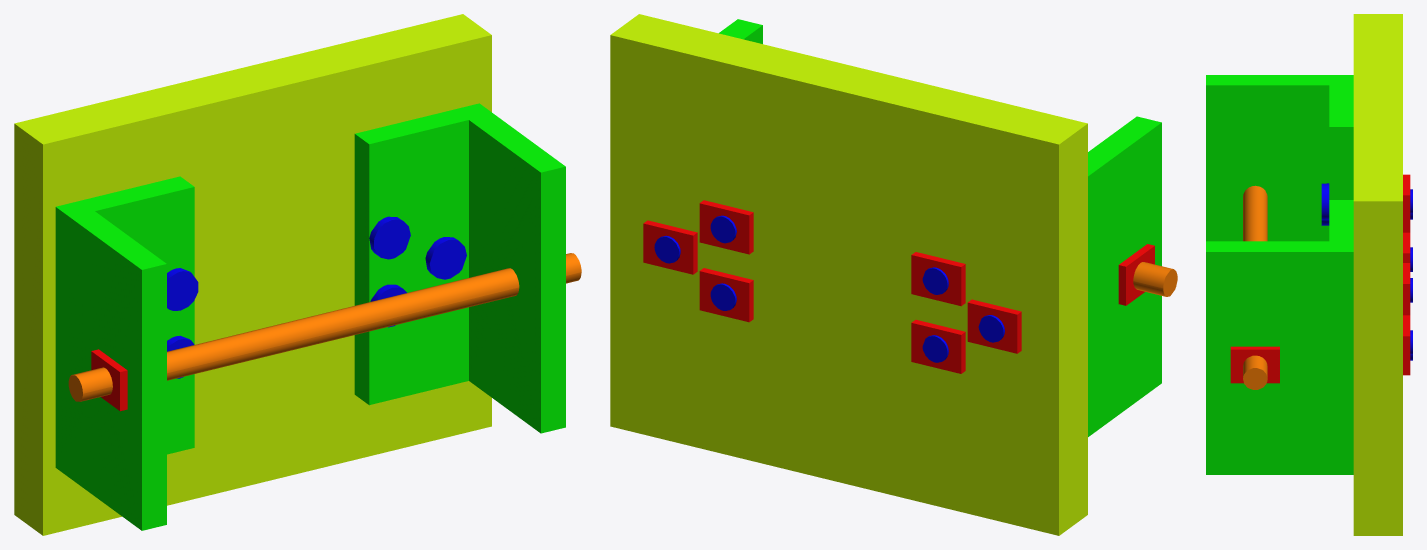
Rendered from test-v3-packed.glb.
3 renders of one model, left to right at view 1: azimuth 30°, elevation 25°; view 2: azimuth 150°, elevation 25°; view 3: azimuth 270°, elevation 25°, orthographic. The views are drawn at different scales.
Visible parts, largest first — view 1: plate, l-bracket (×2), rod, bolt (×3), nut; view 2: plate, l-bracket (×2), nut (×7), rod; view 3: l-bracket (×2), plate, nut (×4), rod, bolt.
Part boxes in pixels (left/top/right/bottom): plate: left=14, top=14, right=491, bottom=535; l-bracket (×2): left=55, top=103, right=565, bottom=530; rod: left=68, top=253, right=581, bottom=401; bolt (×3): left=167, top=216, right=466, bottom=310; nut: left=91, top=349, right=127, bottom=411; plate: left=610, top=14, right=1087, bottom=535; l-bracket (×2): left=719, top=19, right=1161, bottom=436; nut (×7): left=643, top=200, right=1154, bottom=373; rod: left=1133, top=262, right=1177, bottom=296; l-bracket (×2): left=1206, top=75, right=1353, bottom=474; plate: left=1353, top=14, right=1402, bottom=535; nut (×4): left=1230, top=174, right=1410, bottom=383; rod: left=1243, top=185, right=1267, bottom=389; bolt: left=1321, top=183, right=1412, bottom=220.
Size of the model in its own units: 0.2 by 0.15 by 0.084.
